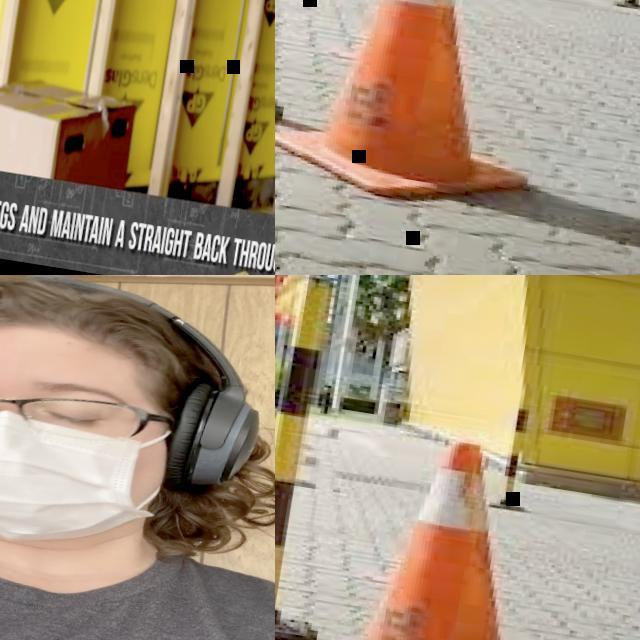helmet: (0, 275, 218, 389)
